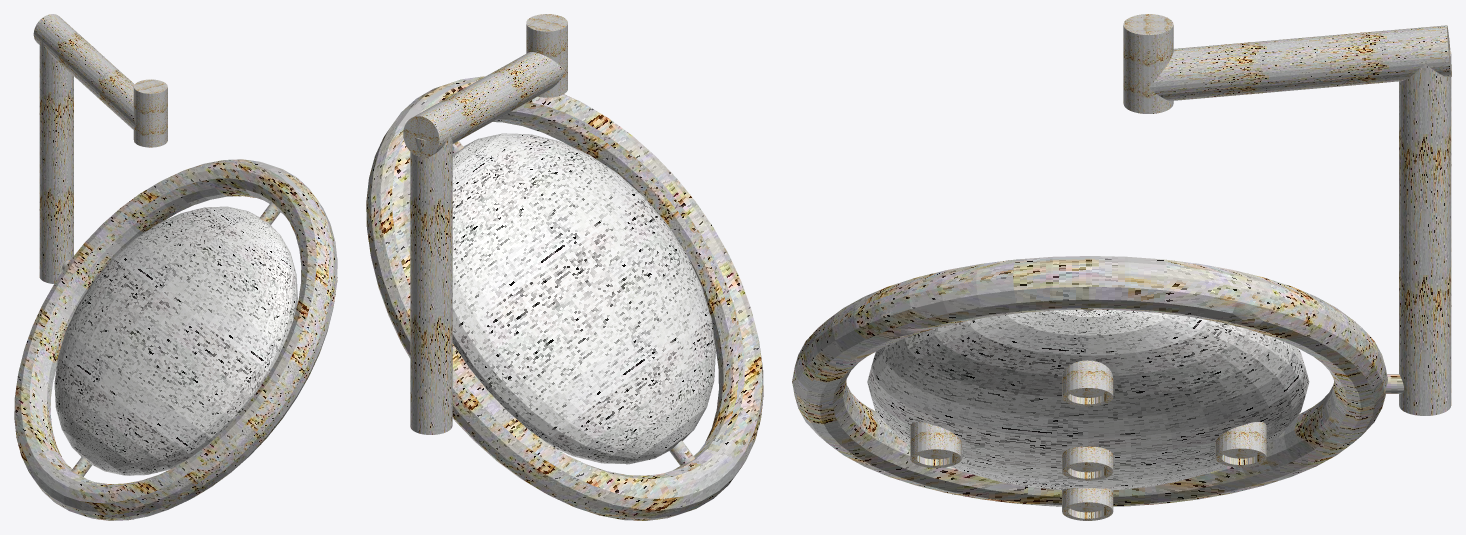
Rendered from clean_lamp.glb.
3 renders of one model, left to right at view 1: azimuth 30°, elevation 25°; view 2: azimuth 150°, elevation 25°; view 3: azimuth 270°, elevation 25°, orthographic. The views are drawn at different scales.
Parts seen in each view (by area): view 1: Сфера; view 2: Сфера; view 3: Сфера.
Boxes of the visible parts, left/top/right/bottom form: Сфера: left=14, top=14, right=337, bottom=520; Сфера: left=366, top=14, right=763, bottom=520; Сфера: left=792, top=14, right=1451, bottom=520.
Bounding box in the file's own units: 42.82 × 61.48 × 66.25.
2 materials, 2 textured.
